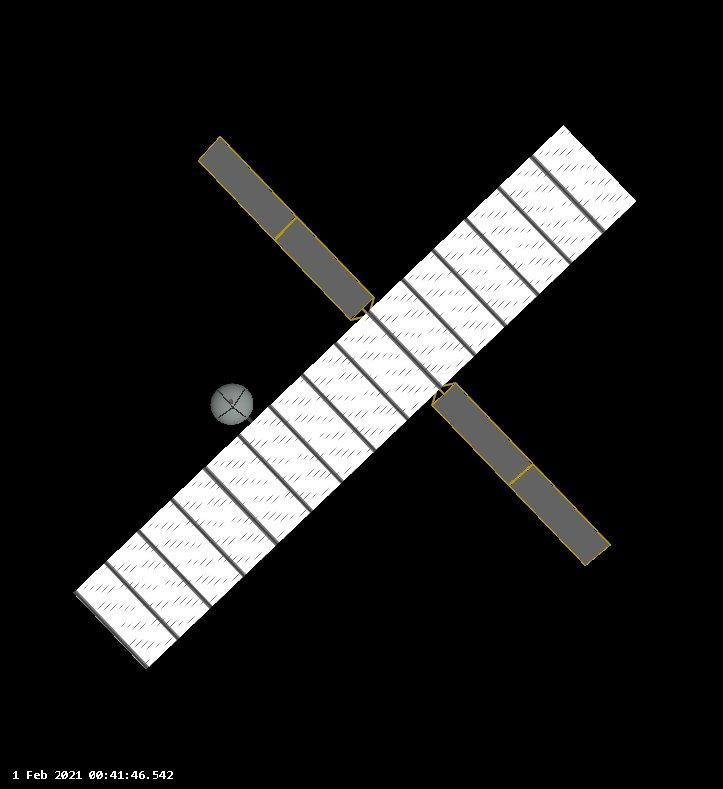antenna: (208, 381, 255, 427)
solar: (431, 381, 614, 569), (195, 134, 375, 321)
